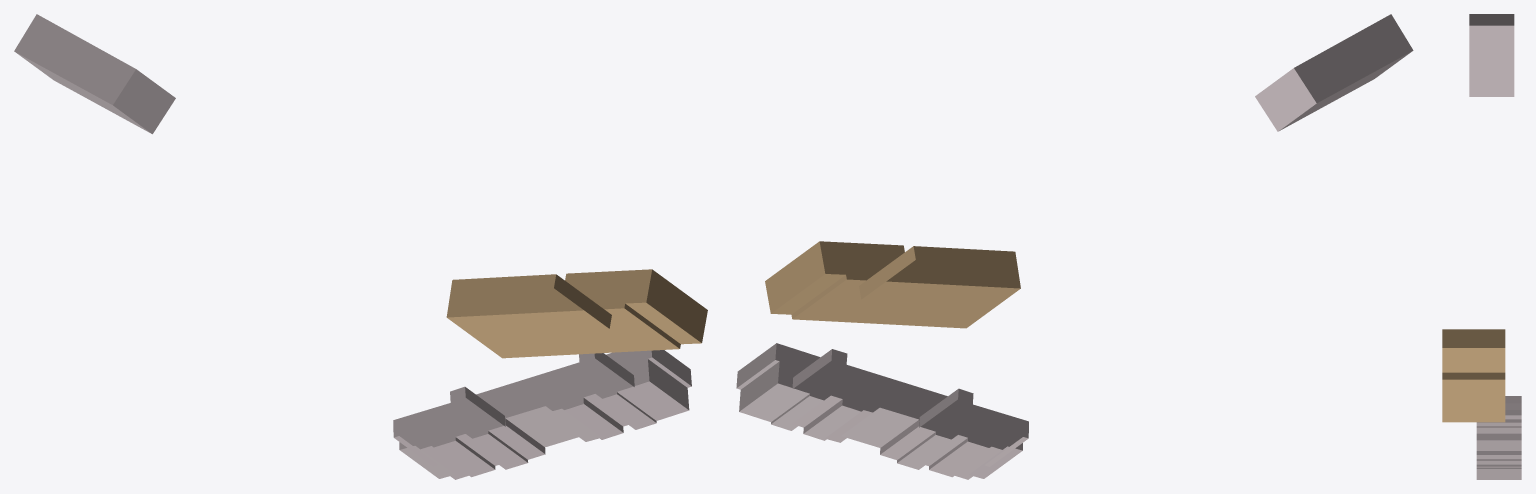
The picture shows the model from 3 angles, left to right: view 1: azimuth 30°, elevation 25°; view 2: azimuth 150°, elevation 25°; view 3: azimuth 270°, elevation 25°; orthographic projection. The views are drawn at different scales.
Visible parts, largest first — view 1: 0_0_3_2_0_2_0; view 2: 0_0_3_2_0_2_0; view 3: 0_0_3_2_0_2_0.
Part boxes in pixels (left/top/right/bottom): 0_0_3_2_0_2_0: left=14, top=14, right=707, bottom=479; 0_0_3_2_0_2_0: left=736, top=14, right=1413, bottom=479; 0_0_3_2_0_2_0: left=1442, top=14, right=1521, bottom=479.
Bounding box in the file's own units: 140 × 112 × 26.5.
